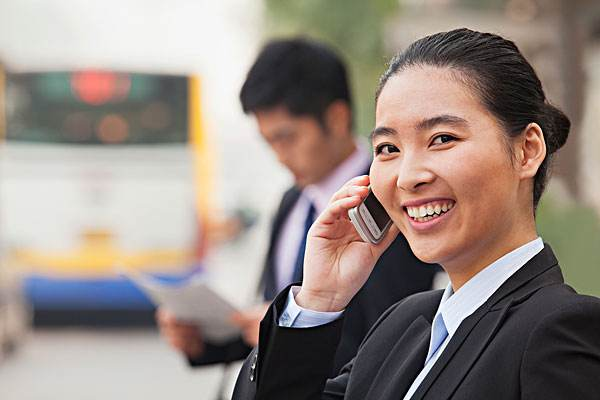calling: (300, 171, 402, 295)
